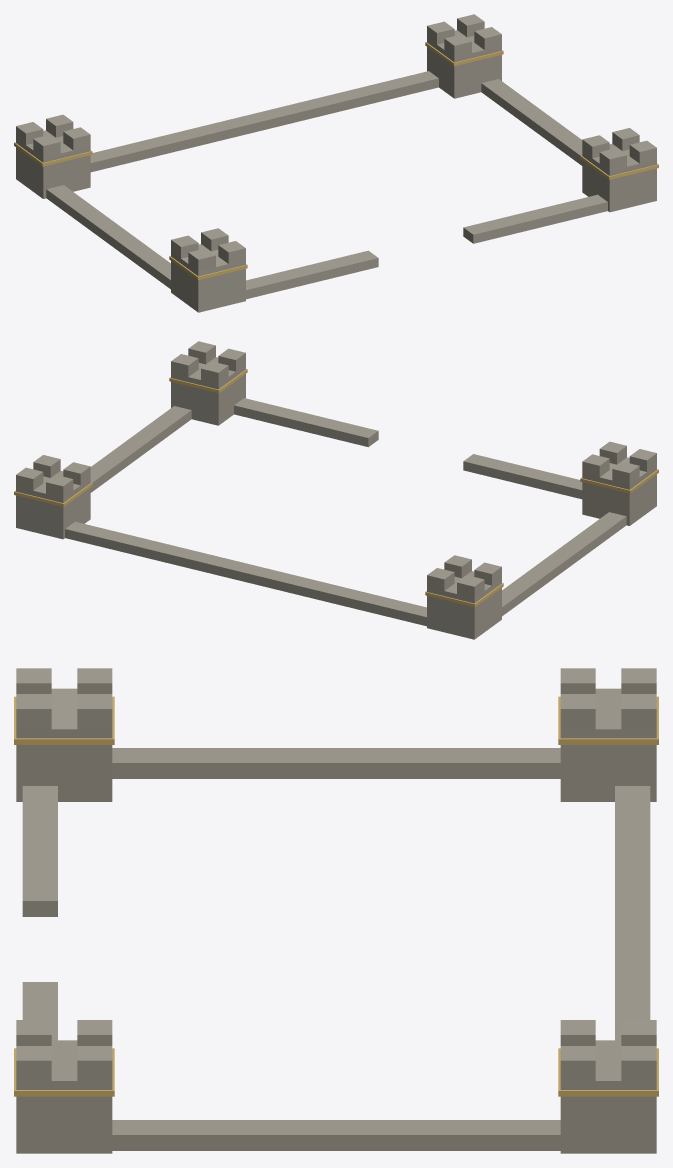
The model's file is default_ramparts.glb.
3 views of the same model, one above another, from view 1: azimuth 30°, elevation 25°; view 2: azimuth 150°, elevation 25°; view 3: azimuth 270°, elevation 25° (orthographic). The views are drawn at different scales.
Visible parts, largest first — view 1: WoodBody, BrassTrim; view 2: WoodBody, BrassTrim; view 3: WoodBody, BrassTrim.
Part boxes in pixels (left/top/right/bottom): WoodBody: left=16, top=14, right=656, bottom=312; BrassTrim: left=14, top=42, right=658, bottom=280; WoodBody: left=16, top=341, right=656, bottom=639; BrassTrim: left=14, top=369, right=658, bottom=607; WoodBody: left=16, top=668, right=656, bottom=1153; BrassTrim: left=14, top=696, right=658, bottom=1096.
Size of the model in its own units: 0.583 by 0.064 by 0.403.
